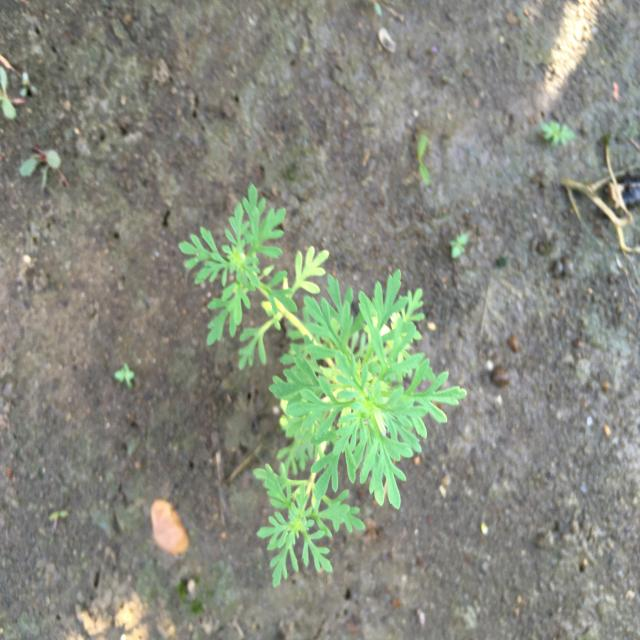Ragweed: (176, 181, 470, 591)
